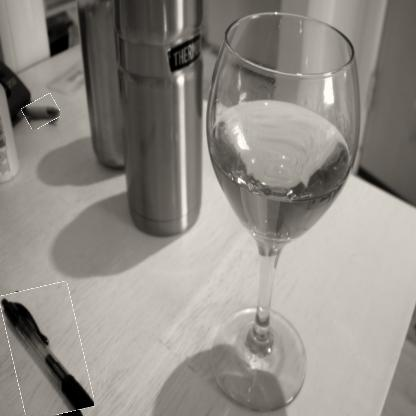Pen: (5, 284, 89, 415), (23, 96, 60, 127)
